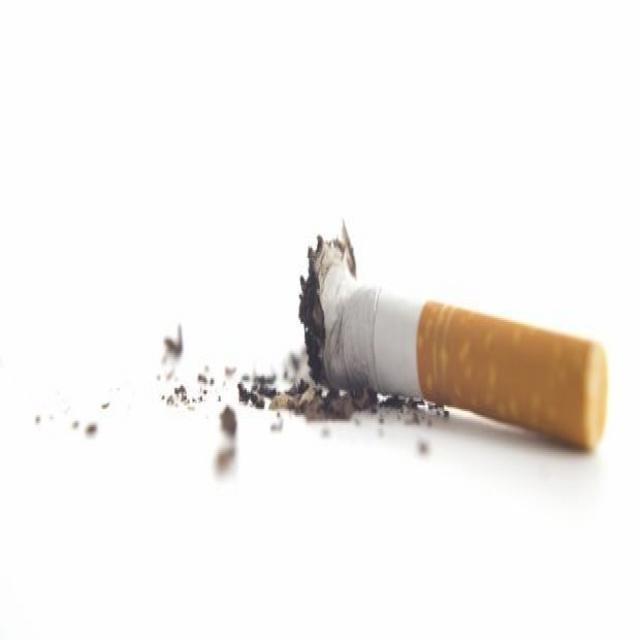cigarette: (278, 231, 608, 463)
